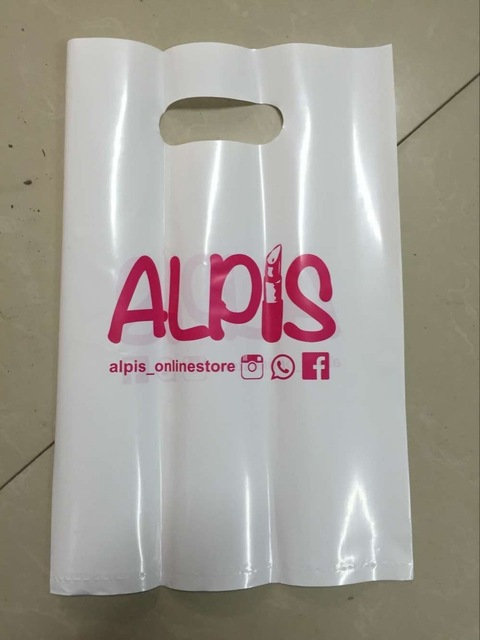Nonrec_Plastic: (52, 27, 430, 600)
